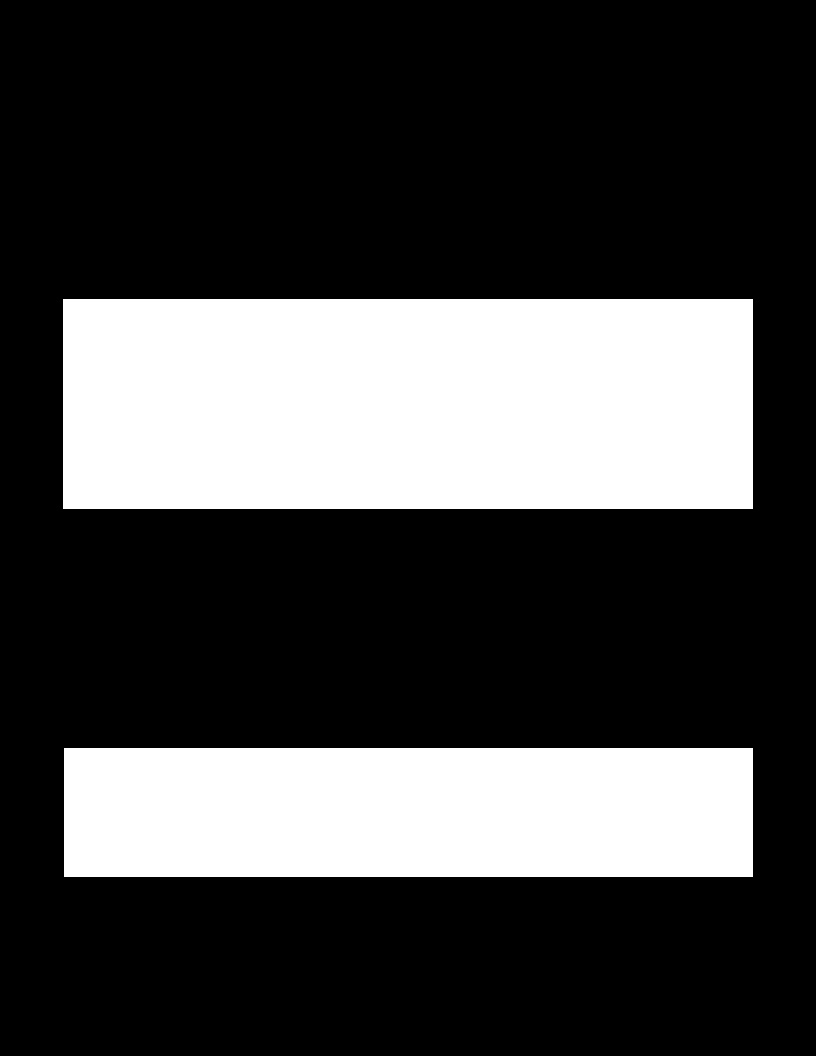table: (63, 299, 752, 508), (64, 748, 752, 876)
